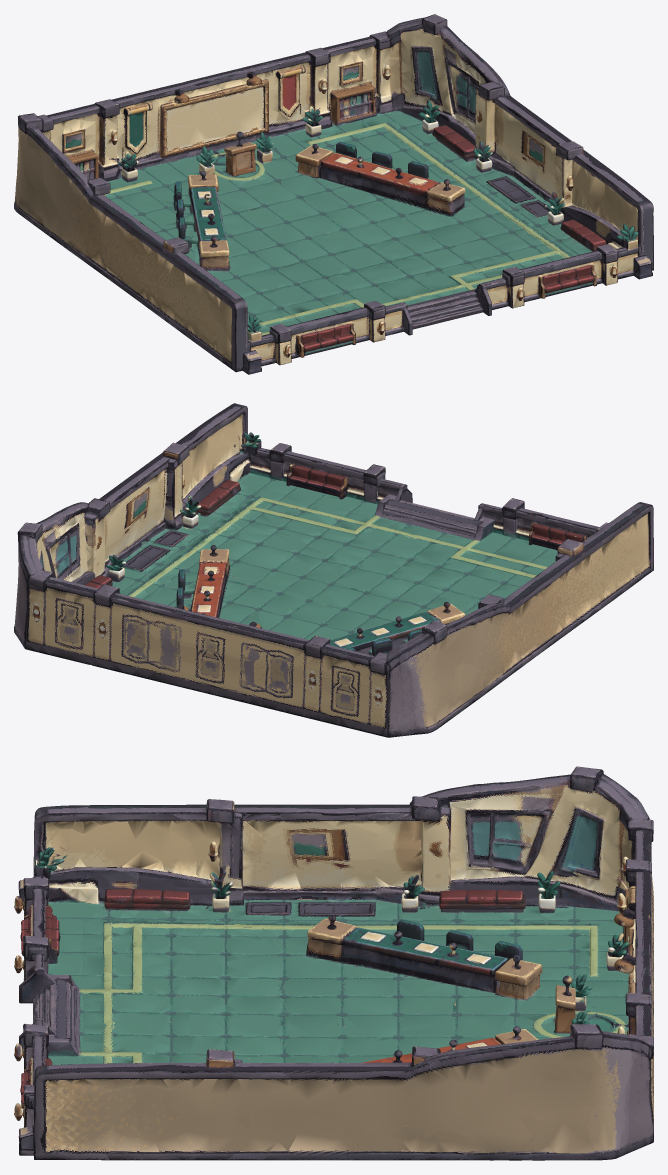
Rendered from scene-debate.glb.
3 renders of one model, top to bottom at view 1: azimuth 30°, elevation 25°; view 2: azimuth 150°, elevation 25°; view 3: azimuth 270°, elevation 25°, orthographic. The views are drawn at different scales.
Visible parts, largest first — view 1: Mesh_0; view 2: Mesh_0; view 3: Mesh_0.
Boxes of the visible parts, x1,y1,x2,y2 form: Mesh_0: (14, 14, 653, 374); Mesh_0: (14, 403, 653, 737); Mesh_0: (14, 766, 653, 1160).
Bounding box in the file's own units: 1.9 × 0.4243 × 1.92.
Materials: 1 (1 with a texture image).
